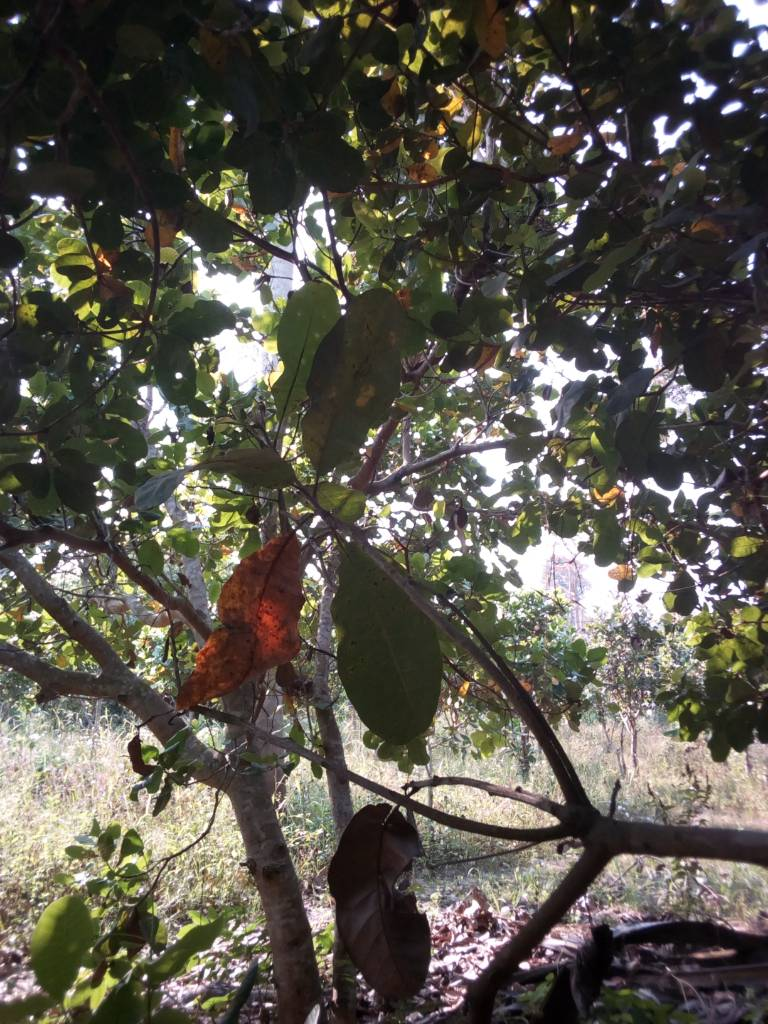Pestalotiose: (332, 533, 438, 744), (304, 296, 399, 474)
